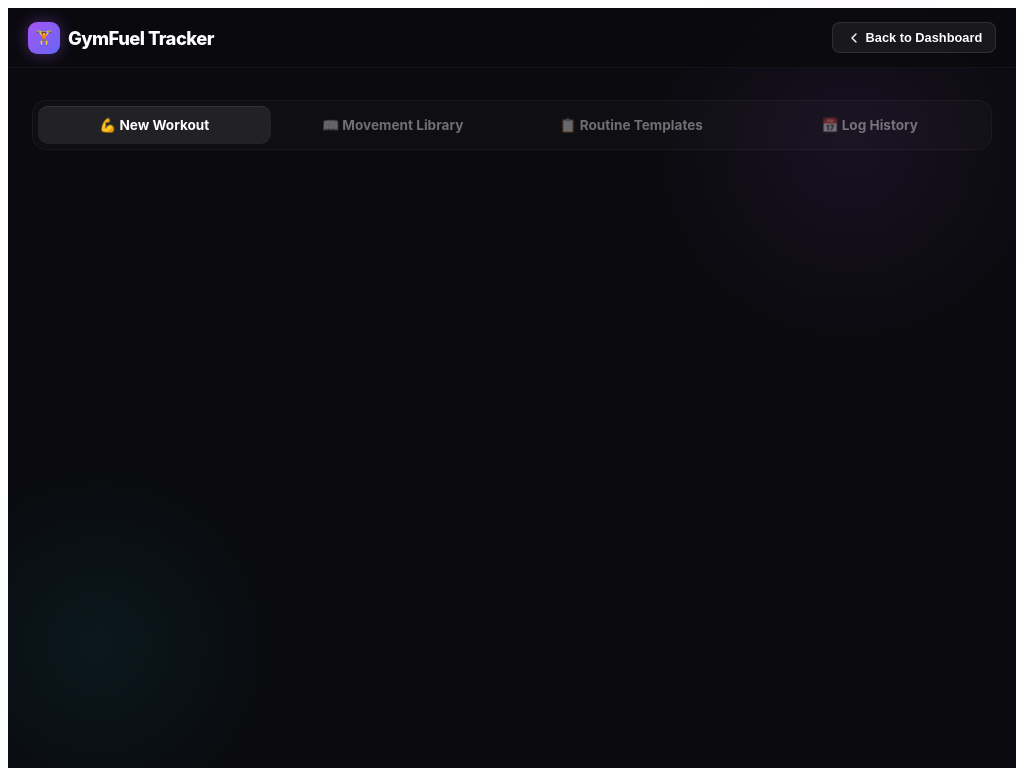
Test: WorkoutPage Component › loads and displays past workout history logs
What coordinates should you click on to do the following:
click the button "📅 Log History"
I would click on:
 (870, 125)
Its box is [753,106,986,144].
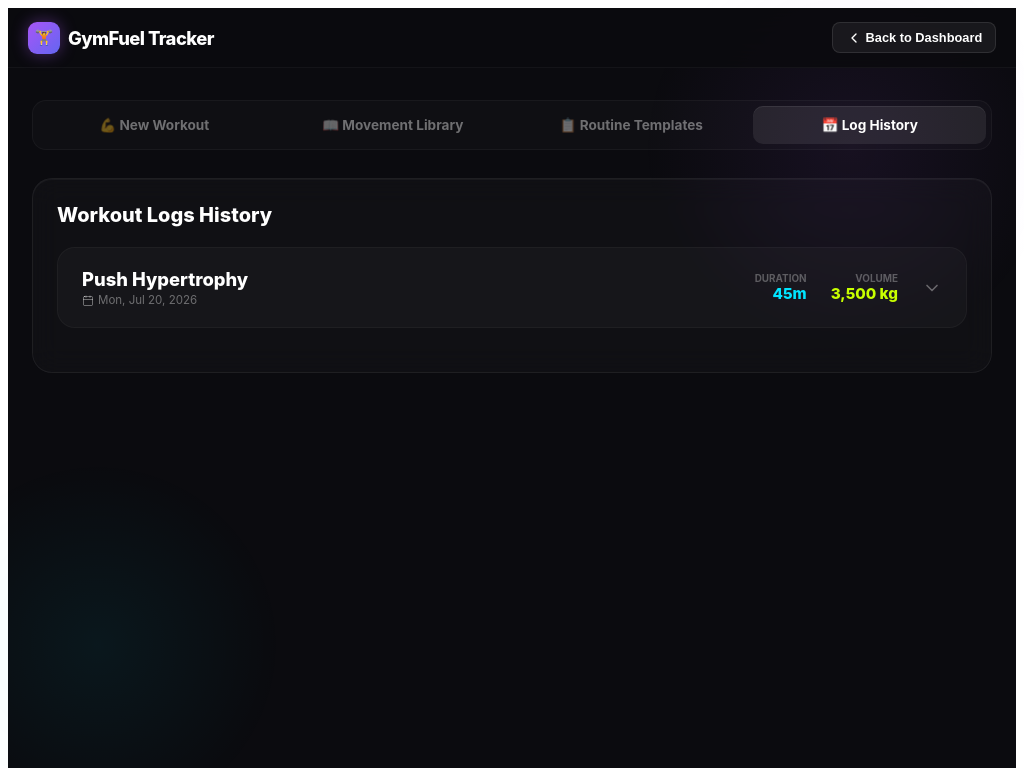
Result: the heading "Push Hypertrophy" is shown
Click history item to expand details
What coordinates should you click on to do the following:
click the heading "Push Hypertrophy"
I would click on:
 (165, 279)
Its box is [82,268,248,290].
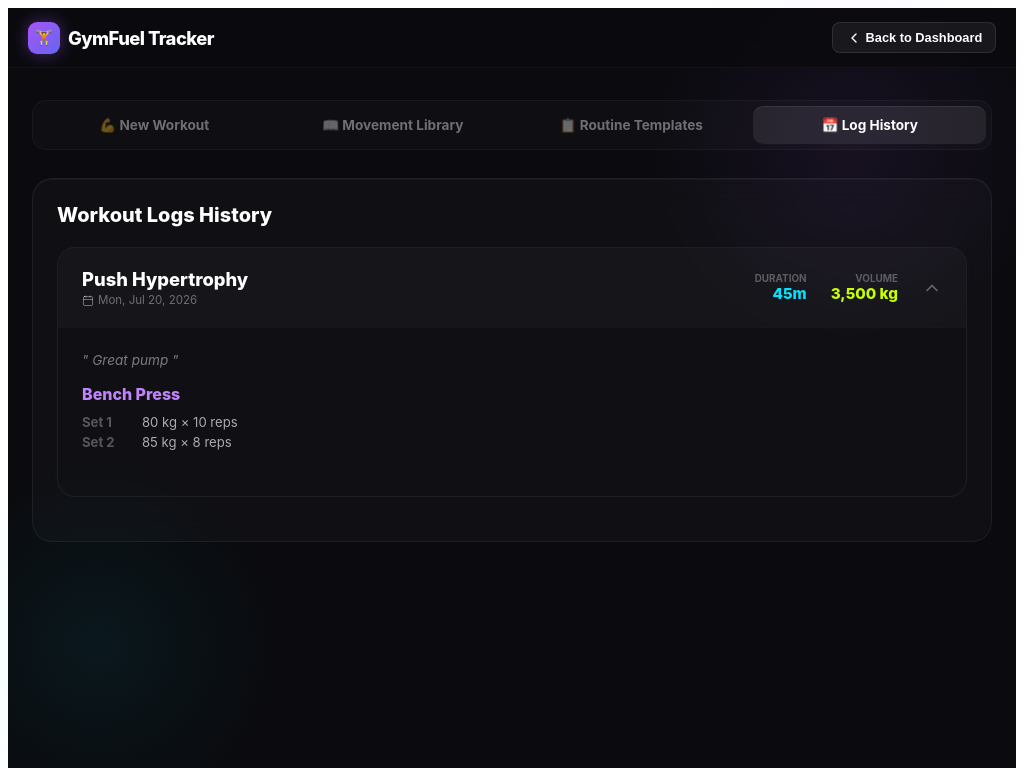
Result: the text "\" Great pump \"" is shown at [82,352,178,368]
